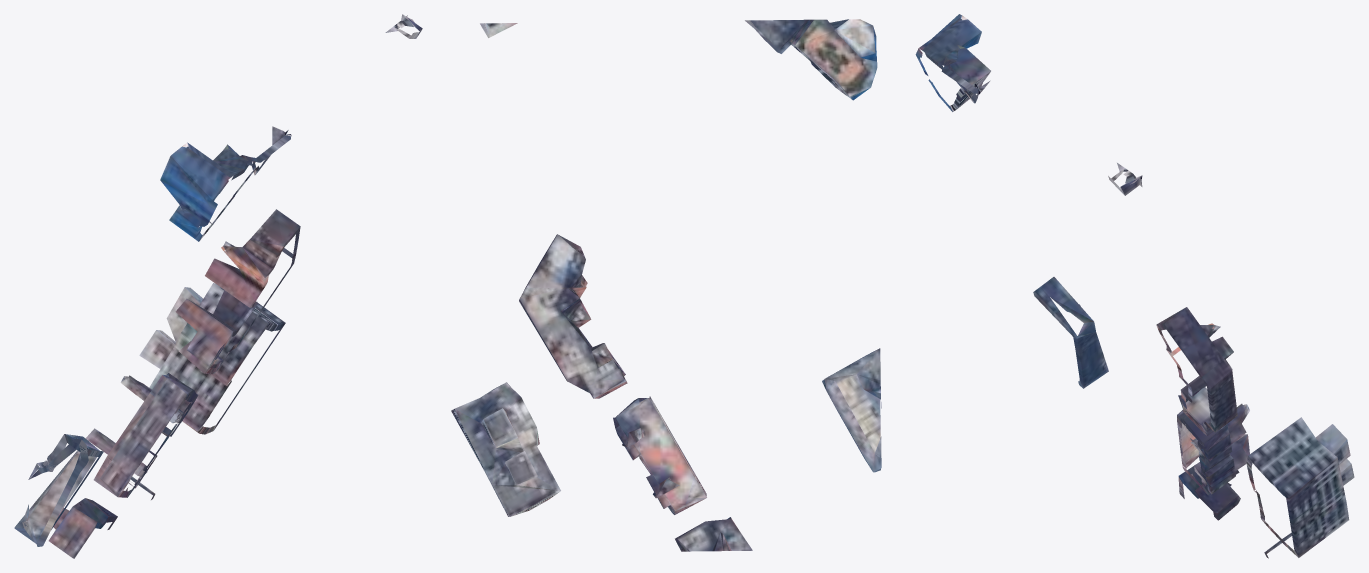
The picture shows the model from 3 angles, left to right: view 1: azimuth 30°, elevation 25°; view 2: azimuth 150°, elevation 25°; view 3: azimuth 270°, elevation 25°; orthographic projection. The views are drawn at different scales.
Size of the model in its own units: 128 by 146 by 122.
Materials: 1 (1 with a texture image).
